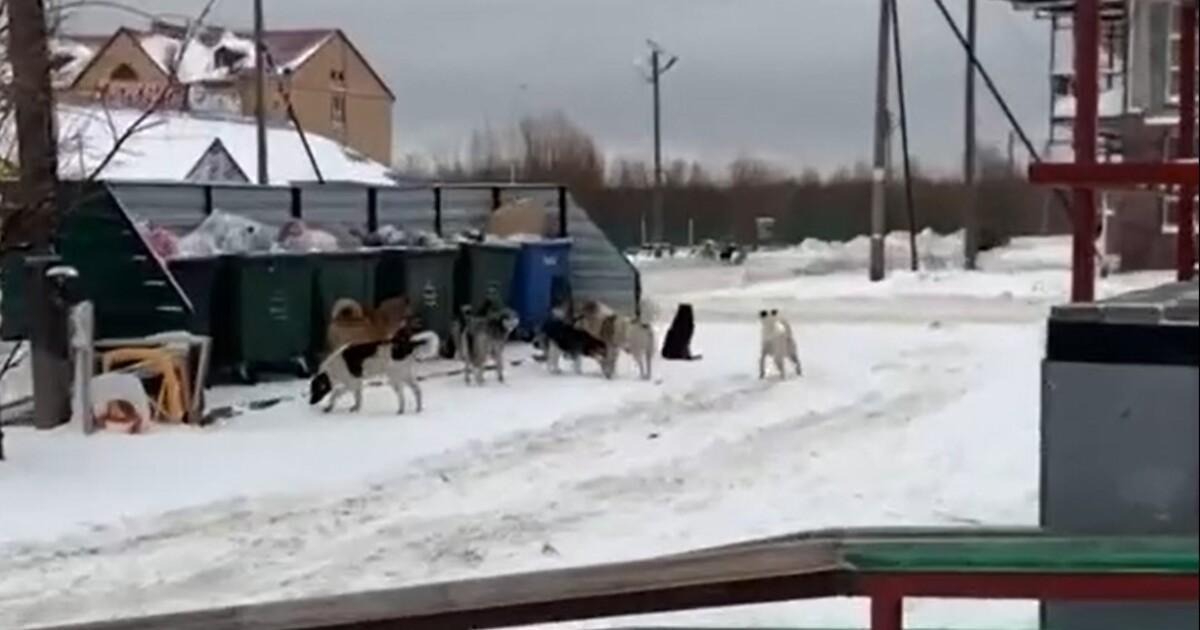dog_aggressive: (757, 309, 804, 383)
normal_dogs: (308, 331, 439, 414), (327, 294, 413, 365), (582, 299, 654, 381), (449, 302, 520, 384), (537, 317, 608, 376), (662, 302, 704, 361)
